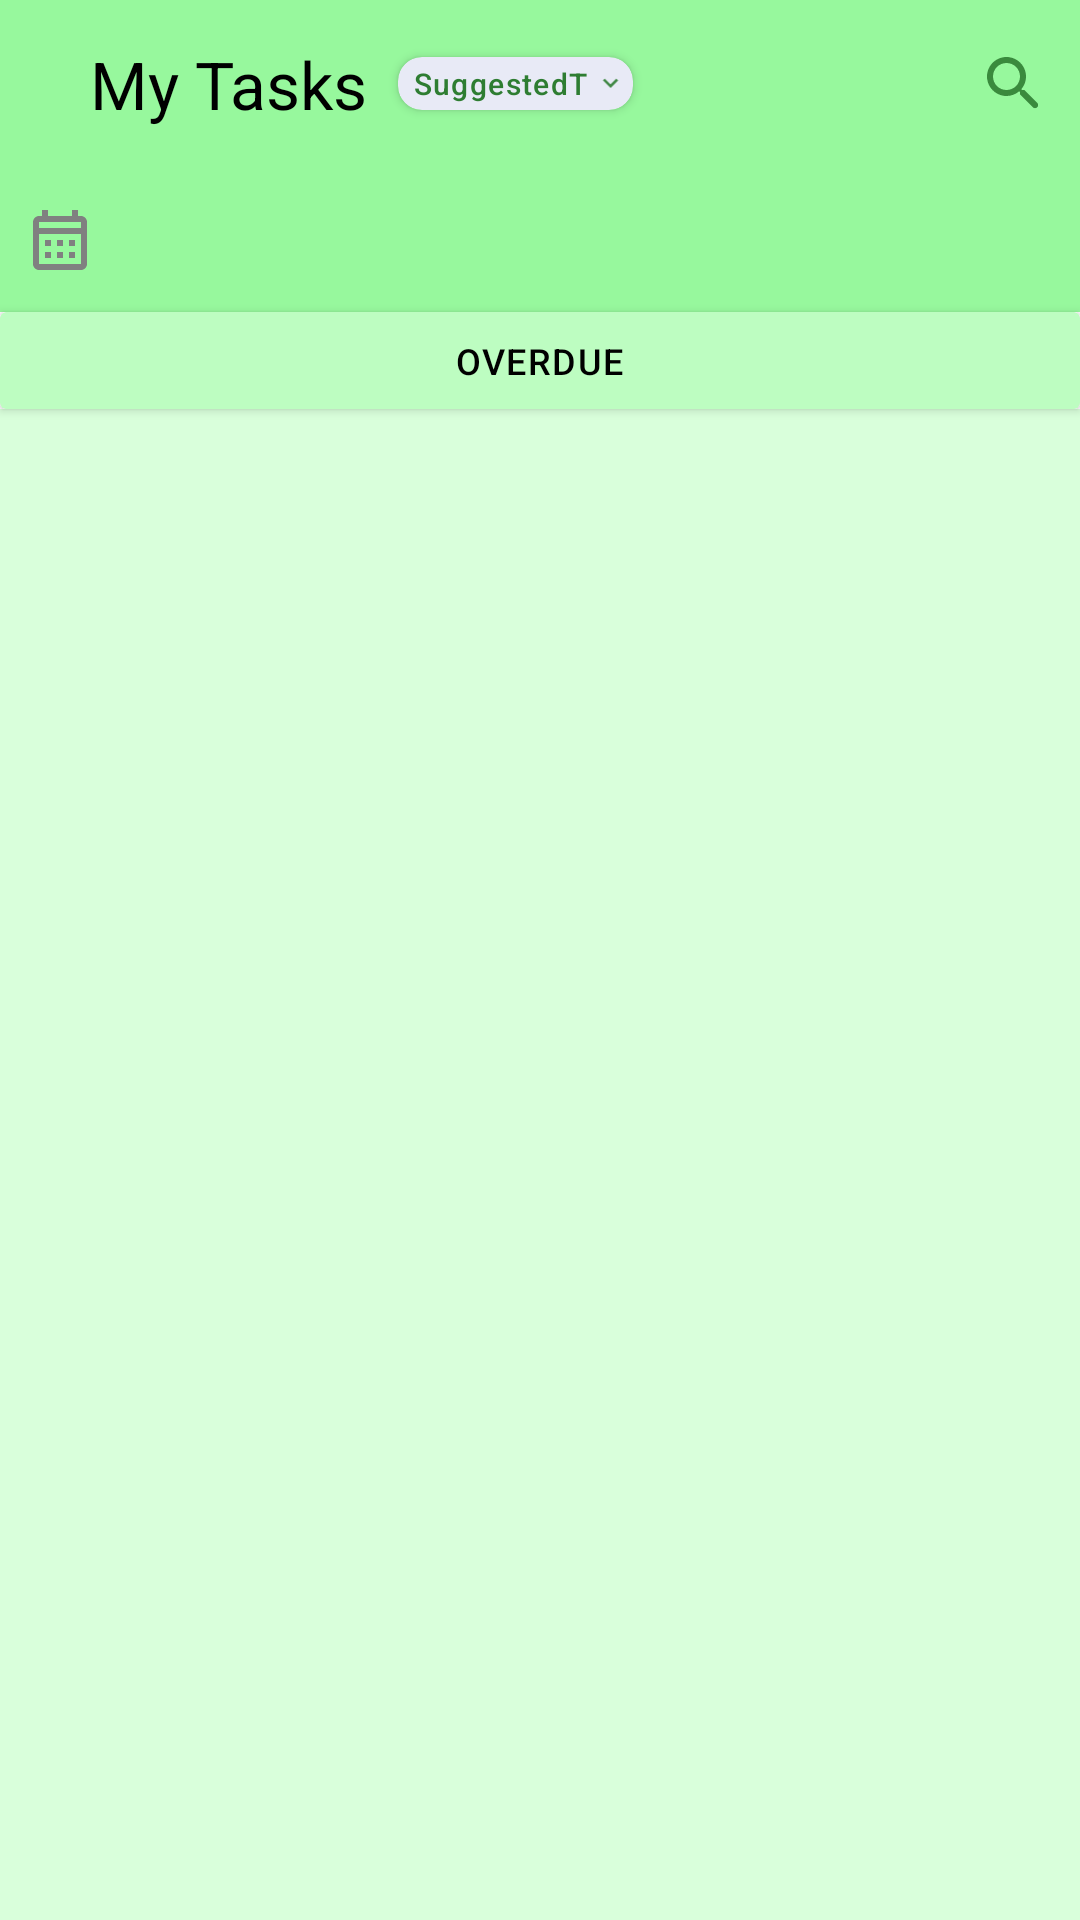

Screen size 1080x1920. Icon name, then its center in pixels as point (x, y):
calendar month: point (60, 240)
search: point (1012, 82)
